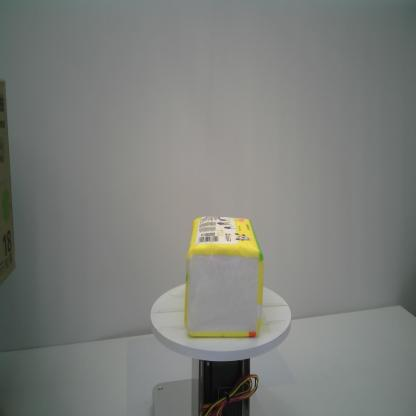Tissue: (182, 214, 265, 338)
